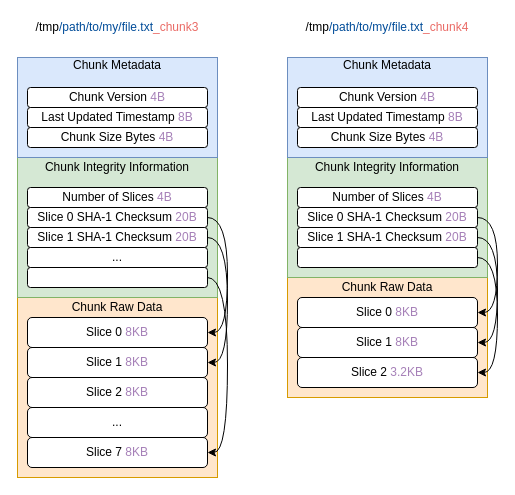
Some shapes in this 515 by 495 pixel diagram are drawn without their labels. The shapes that lost their labels are listed below. From the top down, each one's centre as x and y in pixels, then its label:
the point at 117,277: Slice 7 SHA-1 Checksum 20B
the point at 387,257: Slice 2 SHA-1 Checksum 20B
